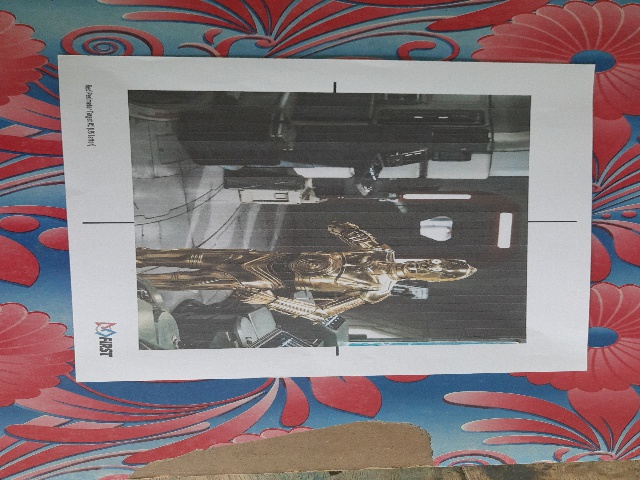rpt1: (80, 67, 572, 354)
